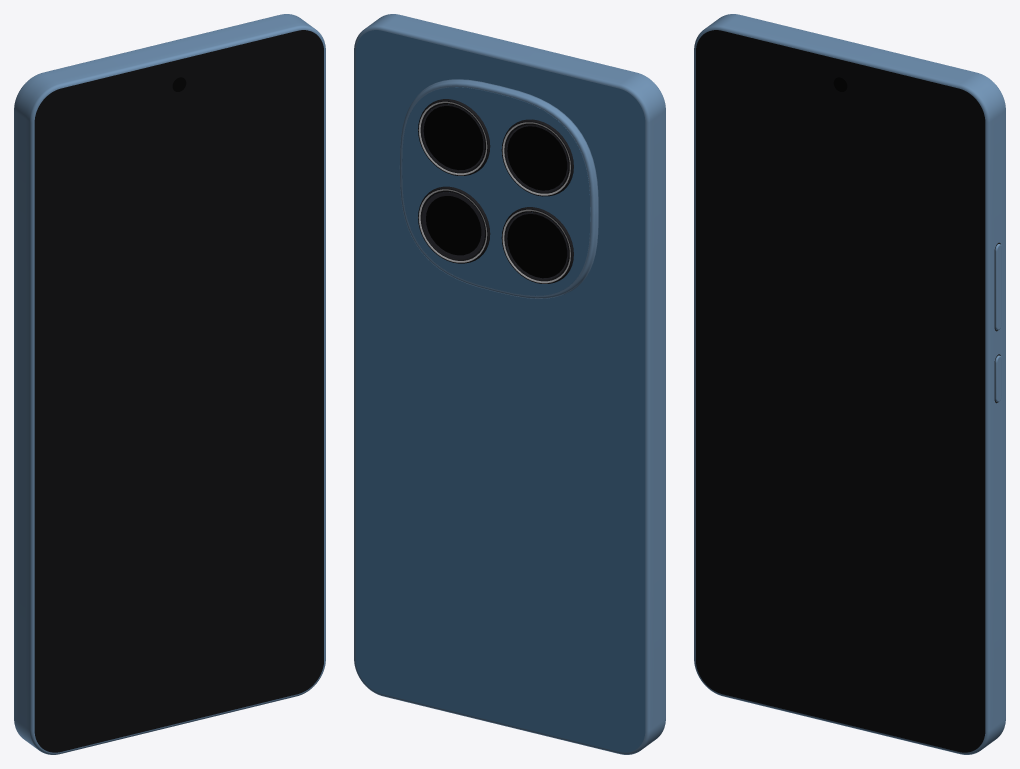
Rendered from redmi-note-14-pro.glb.
3 renders of one model, left to right at view 1: azimuth 30°, elevation 25°; view 2: azimuth 150°, elevation 25°; view 3: azimuth 330°, elevation 25°, orthographic.
Visible parts, largest first — view 1: body; view 2: body, camera; view 3: body, buttons.
Boxes of the visible parts, x1,y1,x2,y2 form: body: (14,14,325,754); body: (354,14,665,754); camera: (399,79,598,298); body: (694,14,1005,754); buttons: (994,242,1001,403).
Bounding box in the file's own units: 75.35 × 162 × 10.66.
